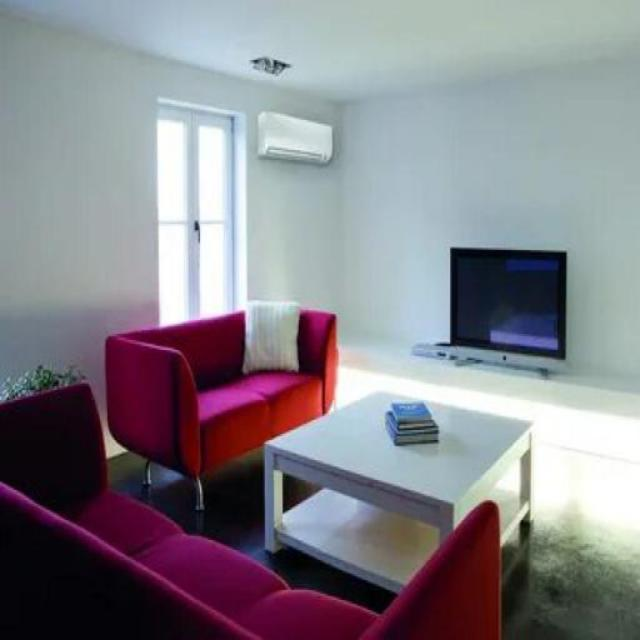Flat-Panel-TV: (450, 242, 568, 380)
